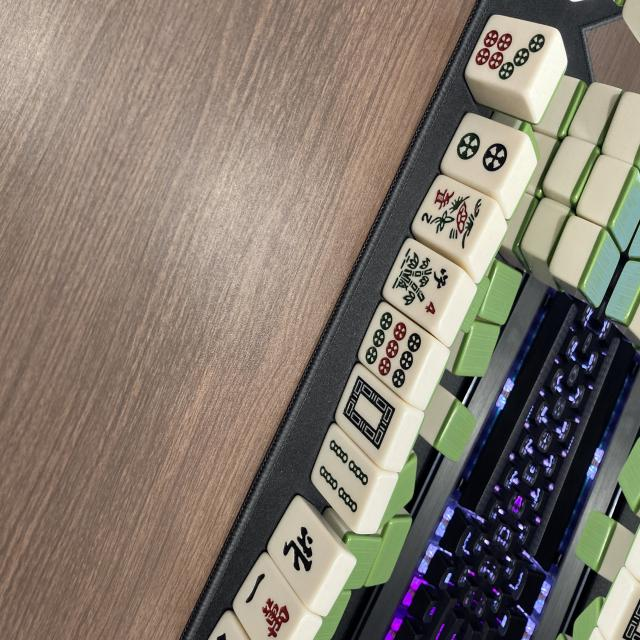1C: (227, 553, 313, 638)
2D: (436, 109, 525, 200)
2S: (410, 172, 496, 260)
4B: (308, 425, 387, 523)
4F: (380, 239, 463, 334)
7D: (468, 8, 564, 94)
9D: (355, 303, 441, 402)
NW: (262, 499, 346, 603)
WD: (327, 365, 412, 465)
